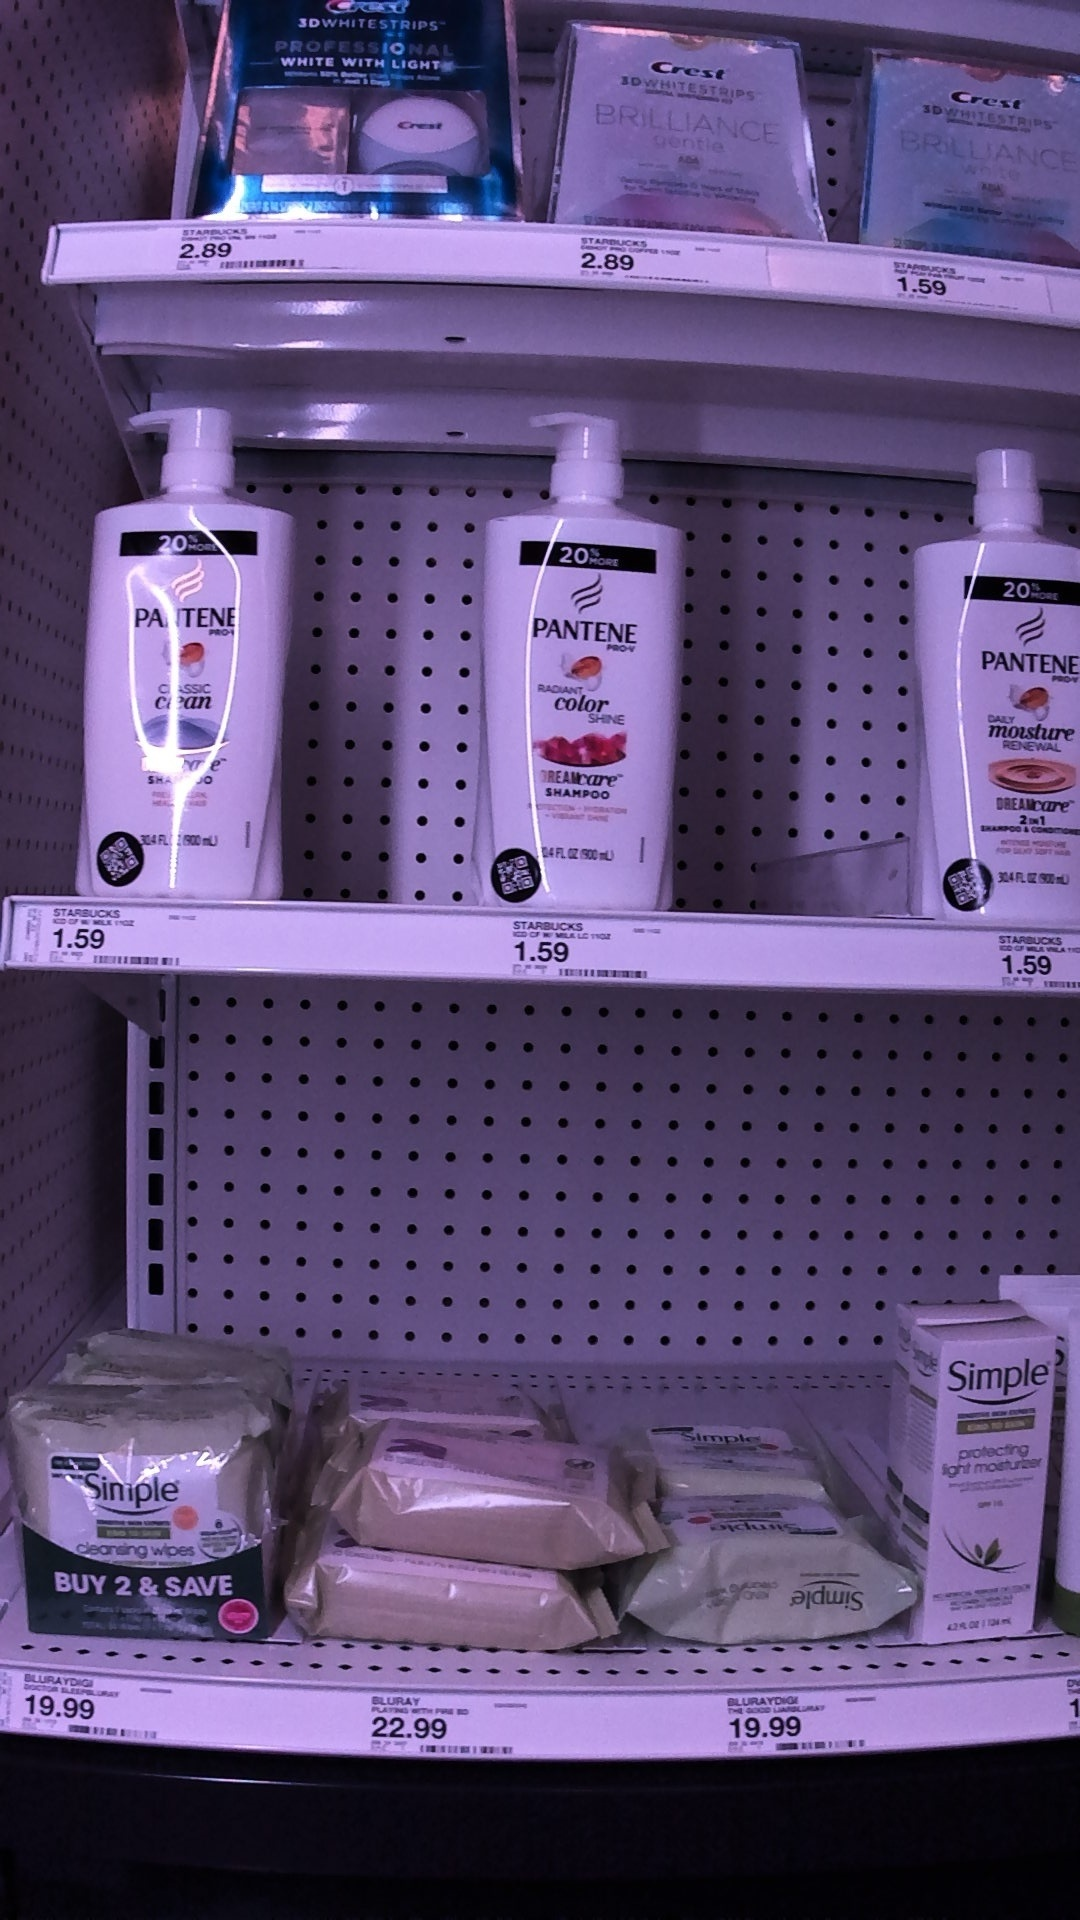ptag: (20, 1665, 173, 1749), (568, 225, 733, 297), (364, 1689, 529, 1760), (884, 243, 1042, 316), (509, 911, 666, 984), (42, 897, 195, 971), (723, 1691, 891, 1756), (173, 218, 349, 277), (989, 931, 1080, 990)
